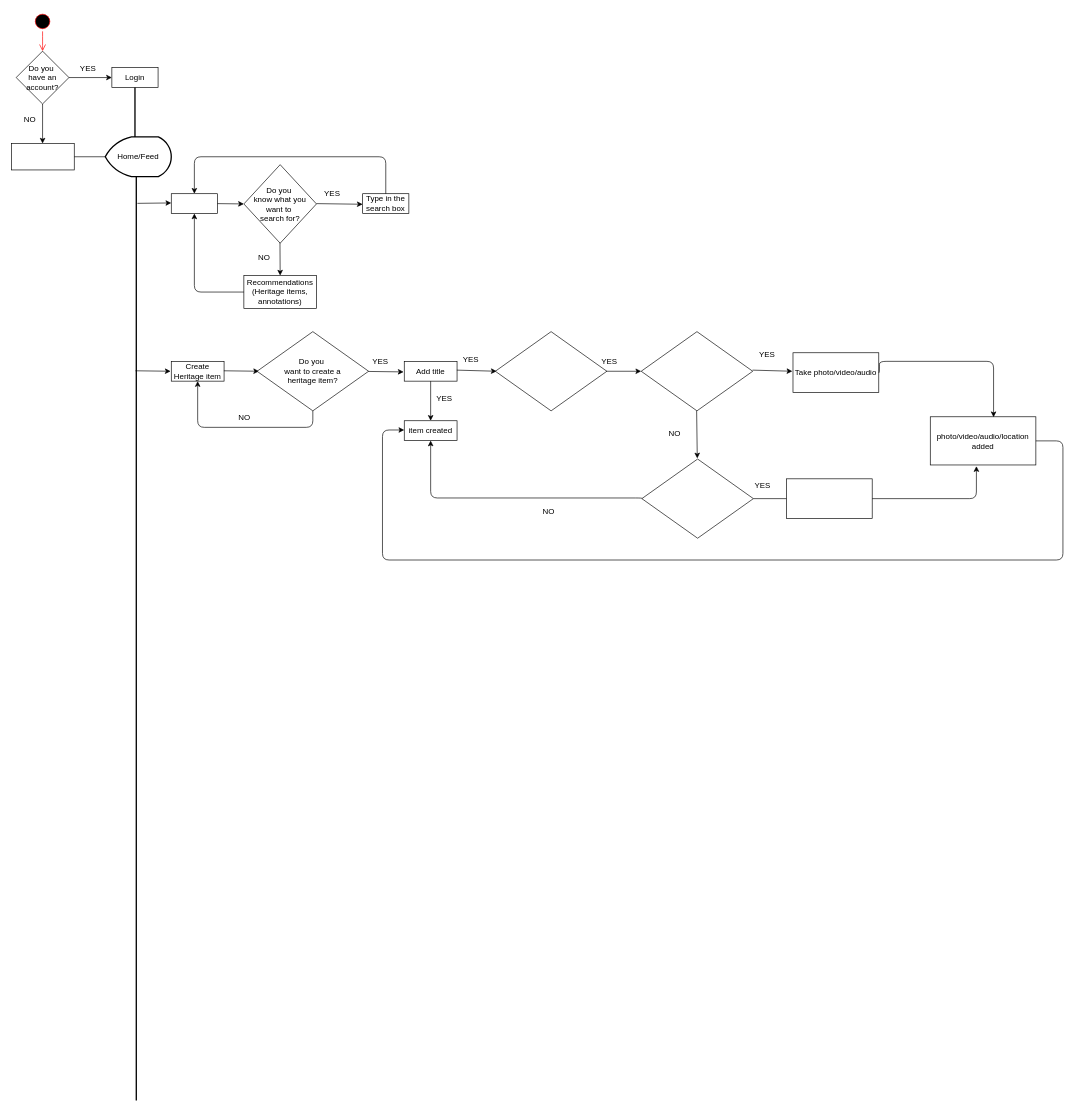
The diagram is 1080 pixels wide and 1113 high, and some of its shapes have lost their labels. The centre of each missing label's shape, as x and y in pixels:
Create an account: (x=42, y=156)
Do you want to a dd photo, video, audio,location to heritage item?: (x=551, y=371)
Do you want to add a photo/video/audio from your library ?: (x=697, y=498)
Do you want to take a photo/video/audio and add it to heritage item?: (x=697, y=371)
Pick photo/video/audio: (x=829, y=498)
Search: (x=194, y=203)
